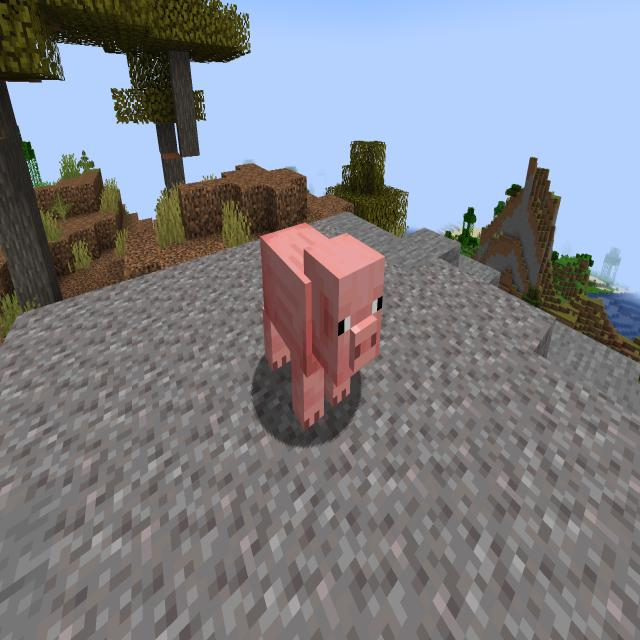pig: (246, 202, 391, 453)
